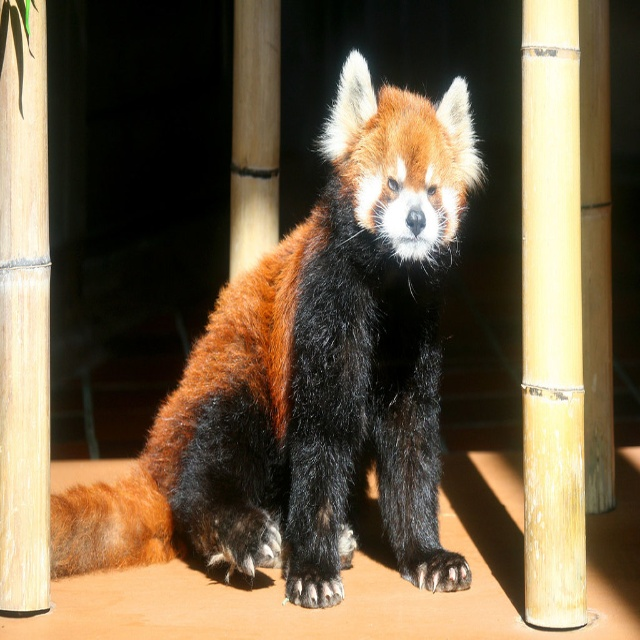Red panda: (50, 46, 490, 609)
